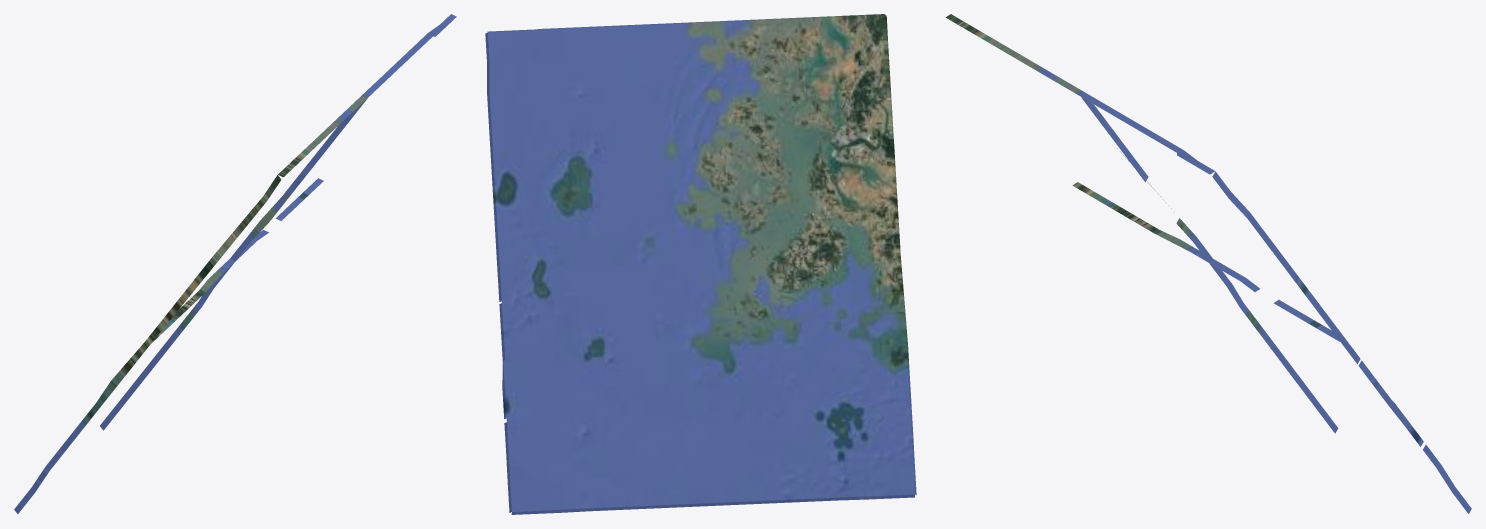
The picture shows the model from 3 angles, left to right: view 1: azimuth 30°, elevation 25°; view 2: azimuth 150°, elevation 25°; view 3: azimuth 270°, elevation 25°; orthographic projection. The views are drawn at different scales.
Bounding box in the file's own units: 158234 × 131264 × 149261.
Materials: 1 (1 with a texture image).
